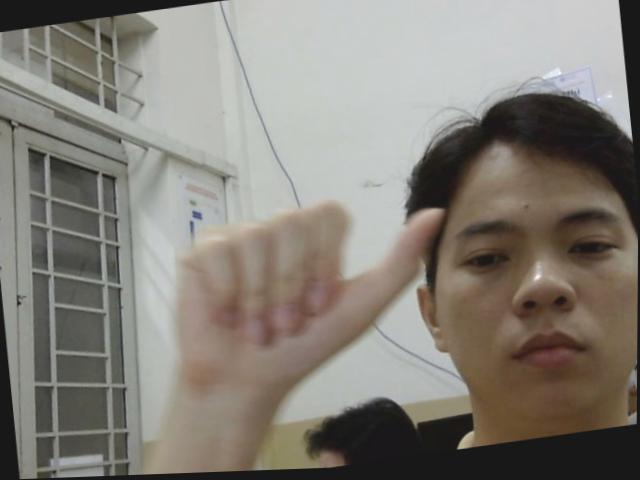A: (159, 185, 463, 404)
